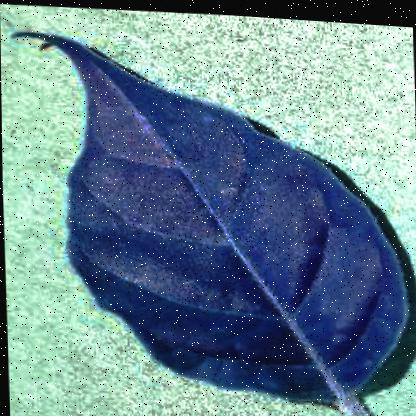Healthy: (5, 18, 415, 415)
